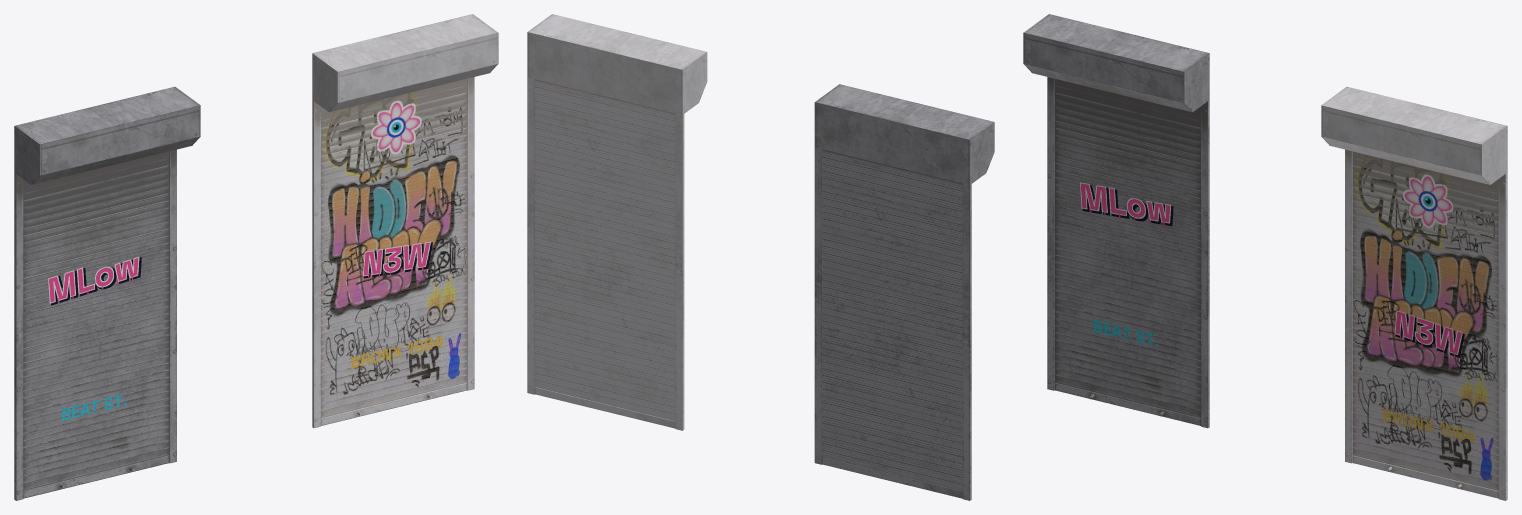
File: nyb_bs_shutter.glb
3 renders of one model, left to right at view 1: azimuth 30°, elevation 25°; view 2: azimuth 150°, elevation 25°; view 3: azimuth 330°, elevation 25°, orthographic. The views are drawn at different scales.
Parts seen in each view (by area): view 1: rollershutter_door, stk_tag_mlow.png, stk_eyeflower_die.png, stk_tag_n3w.png, stk_lbl_66df9a8f0d.png; view 2: rollershutter_door; view 3: rollershutter_door, stk_tag_mlow.png, stk_eyeflower_die.png, stk_tag_n3w.png, stk_lbl_66df9a8f0d.png.
Part boxes in pixels (box(x1,y1,x2,y2)): rollershutter_door: box(14, 14, 498, 500); stk_tag_mlow.png: box(48, 256, 141, 305); stk_eyeflower_die.png: box(371, 100, 421, 154); stk_tag_n3w.png: box(362, 241, 432, 278); stk_lbl_66df9a8f0d.png: box(350, 335, 443, 368); rollershutter_door: box(527, 14, 994, 500); rollershutter_door: box(1023, 14, 1507, 500); stk_tag_mlow.png: box(1080, 182, 1173, 227); stk_eyeflower_die.png: box(1403, 174, 1453, 228); stk_tag_n3w.png: box(1394, 310, 1464, 358); stk_lbl_66df9a8f0d.png: box(1382, 409, 1475, 442).
Bounding box in the file's own units: 3.08 × 2.4 × 0.3.
7 materials, 7 textured.
